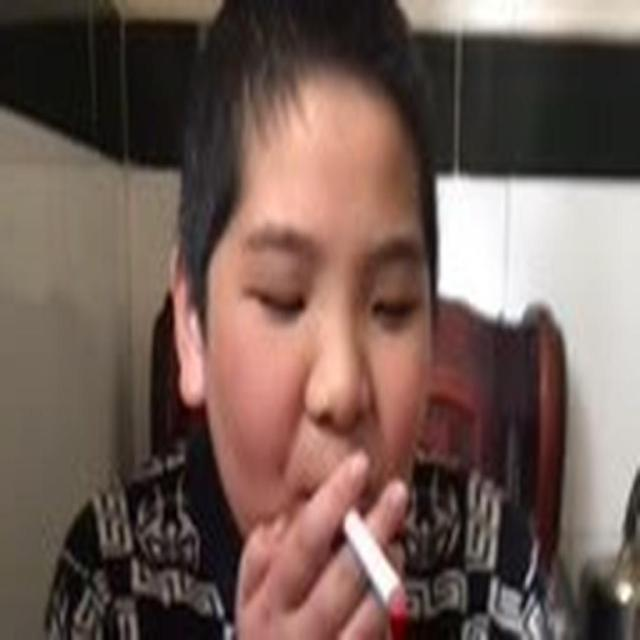smoking: (170, 0, 440, 624)
